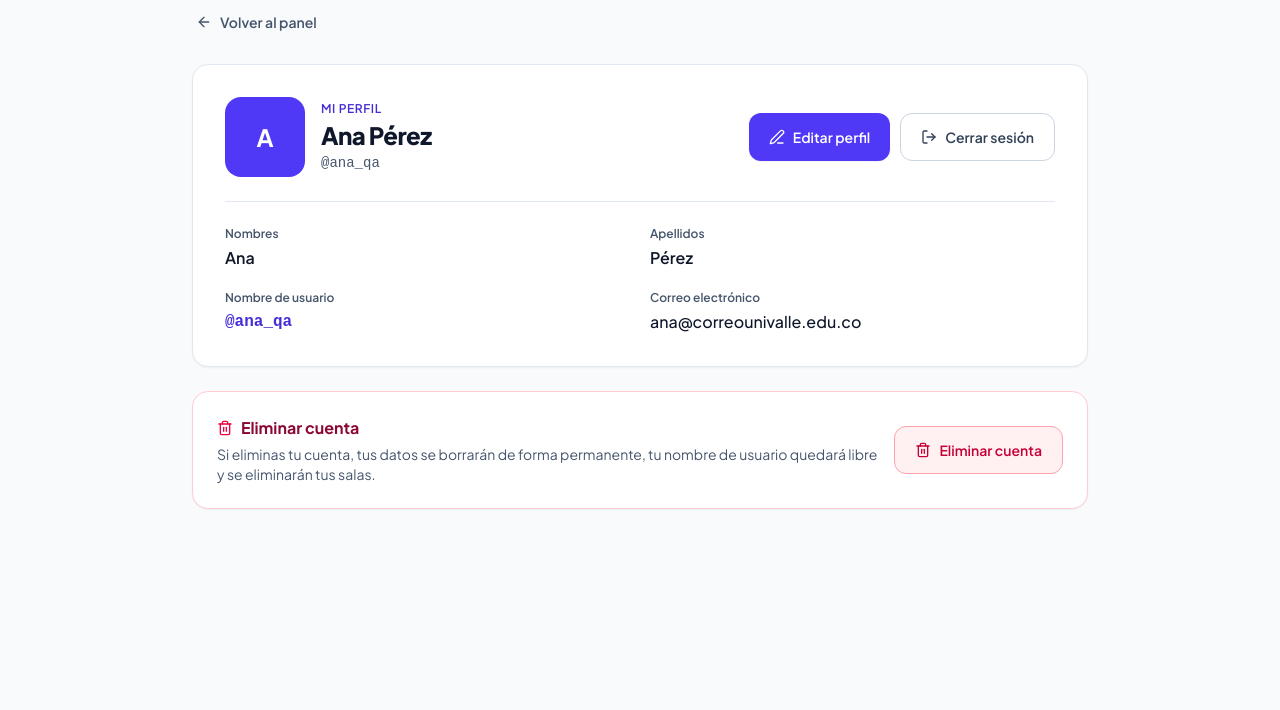
Scenario: US-05 | error al eliminar › informa el fallo sin cerrar la sesión y permite reintentar
Click the button "Eliminar cuenta". click: (979, 450)
box: [894,426,1063,474]
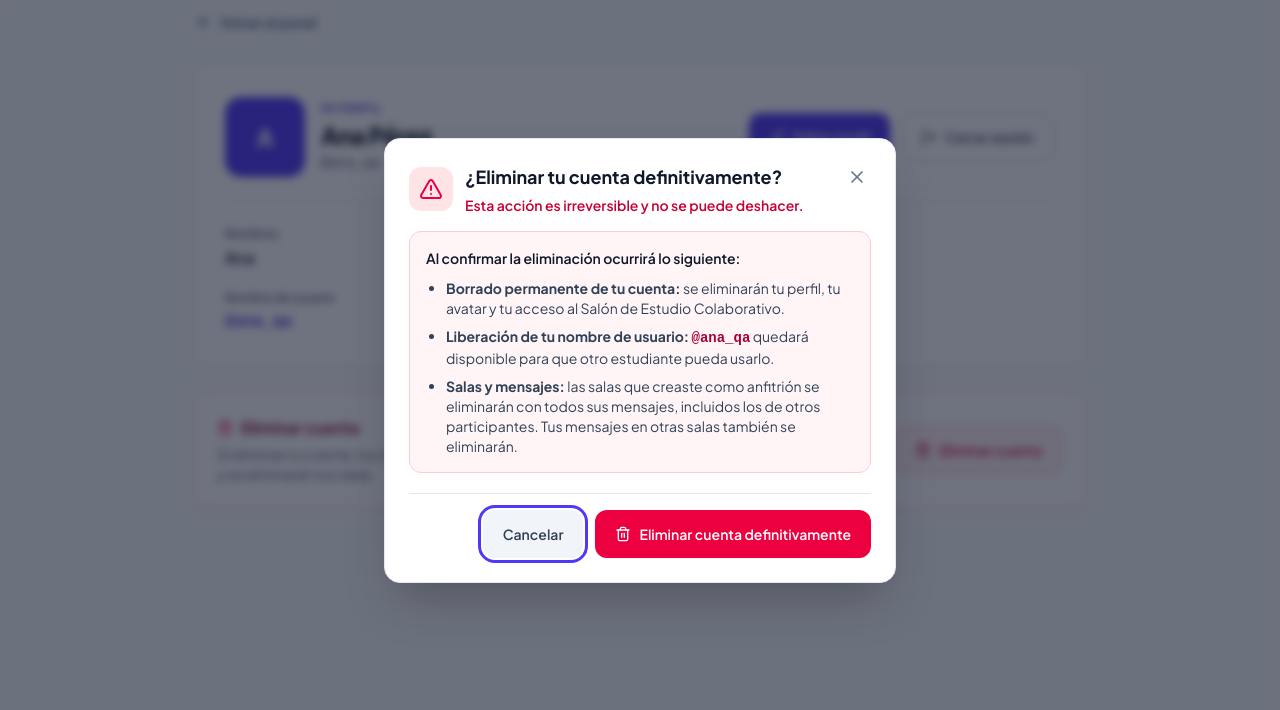
Click the button "Eliminar cuenta definitivamente". click: (733, 534)
box: [596,510,871,558]
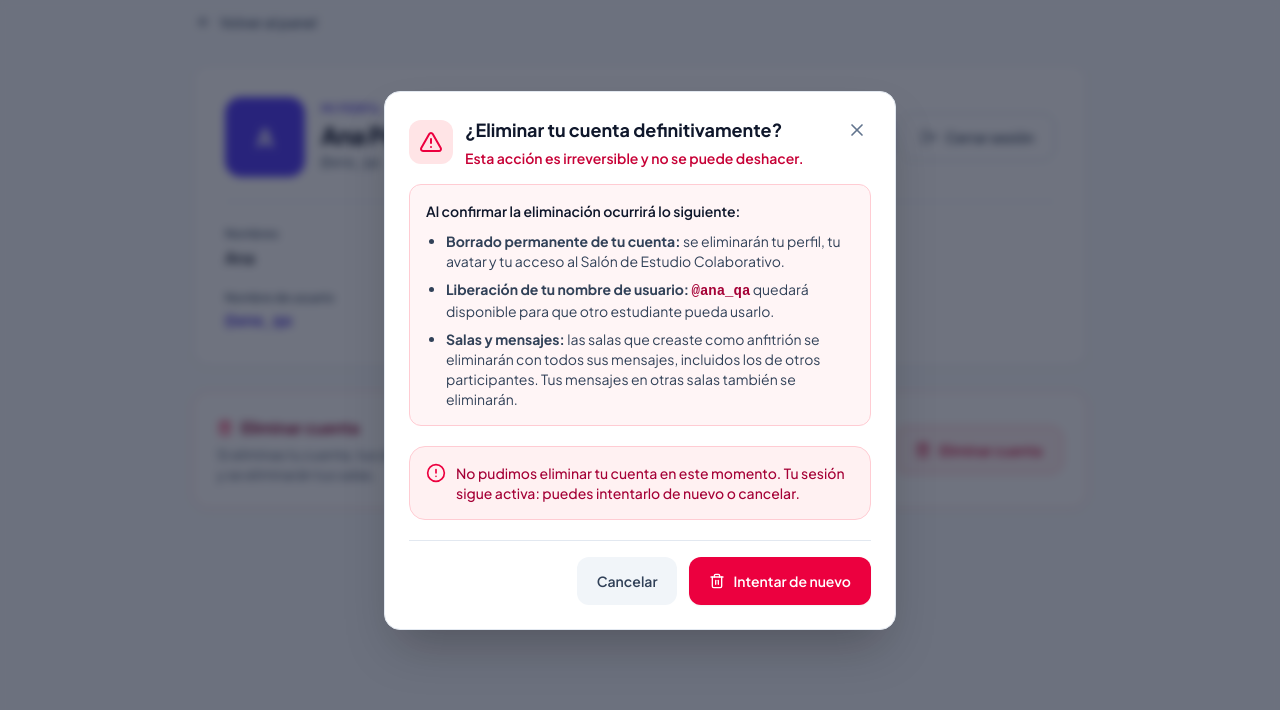
Now the message shows "Tu sesión sigue activa", box [456,464,844,502]
Click the button "Intentar de nuevo". click: (780, 580)
box: [690,556,871,604]
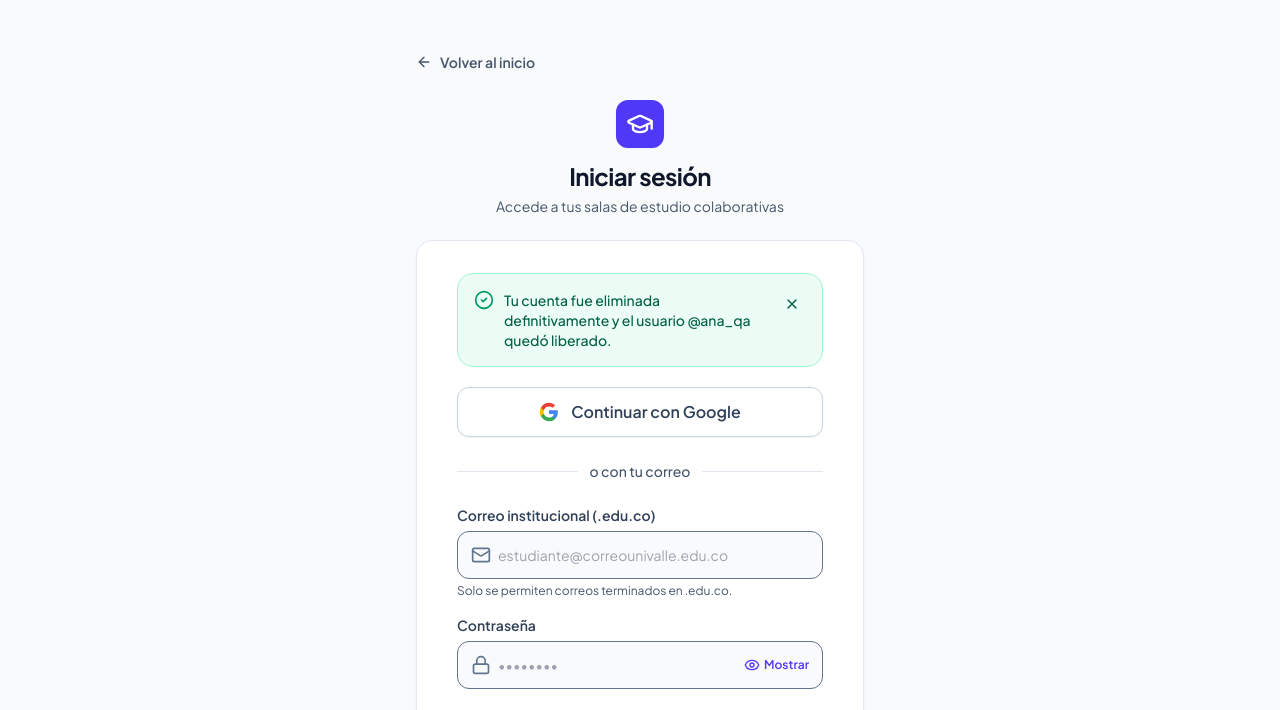
Now the heading "Iniciar sesión" is shown, box [569,160,711,192]
